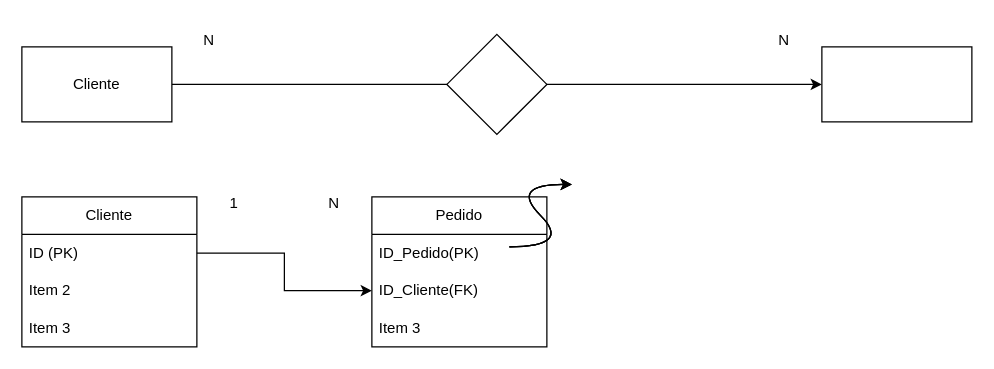
The diagram is 994 pixels wide and 369 high, and some of its shapes have lost their labels. Here are the shapes that lost their labels. From the top down, the centre of each, then its label:
the point at 496,83: Compra
the point at 896,84: Produto
